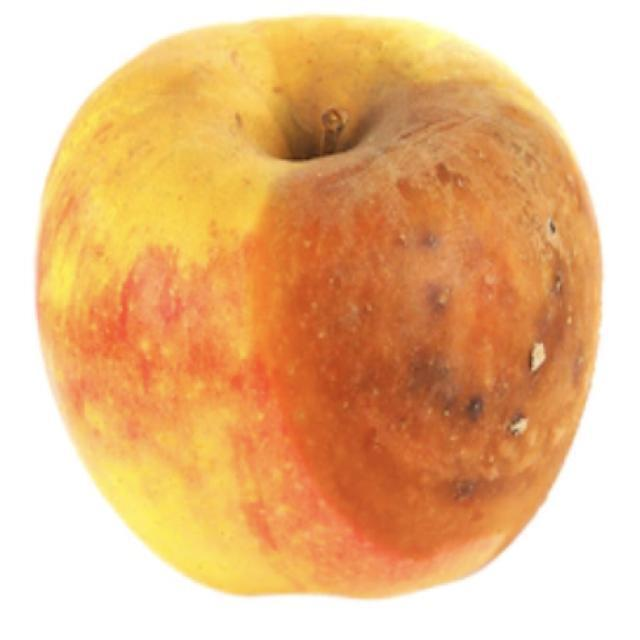Rotten: (36, 8, 602, 605)
